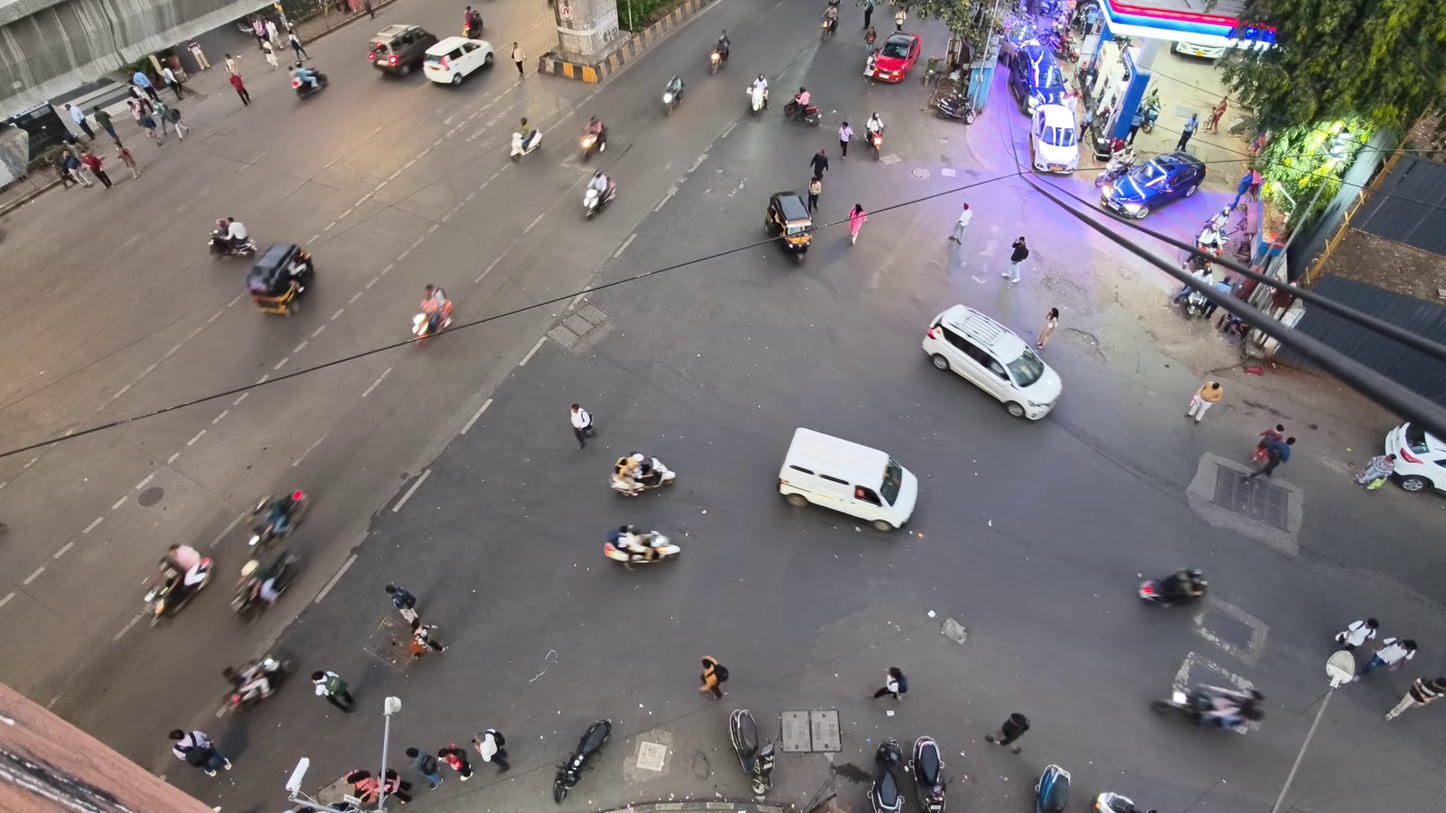walking: (169, 729, 230, 776), (1384, 677, 1445, 720), (1355, 638, 1417, 680), (345, 769, 411, 803), (1244, 437, 1295, 480), (985, 713, 1029, 753), (312, 671, 354, 711), (404, 748, 443, 789), (472, 729, 509, 772), (1185, 381, 1222, 422), (1354, 453, 1396, 489), (409, 619, 447, 657), (1335, 618, 1378, 650), (1001, 236, 1029, 285), (437, 743, 472, 781), (385, 584, 418, 623), (700, 656, 728, 699), (872, 667, 908, 699), (81, 151, 112, 188), (62, 151, 93, 187), (1254, 424, 1284, 461), (569, 403, 593, 449), (92, 105, 120, 143), (64, 103, 93, 139), (1036, 307, 1059, 349), (950, 203, 972, 244), (163, 105, 188, 139), (117, 142, 140, 178), (1176, 113, 1198, 150), (848, 203, 867, 244), (1206, 96, 1227, 132), (133, 70, 158, 100), (138, 111, 161, 143), (162, 65, 182, 99), (230, 73, 249, 105), (188, 41, 209, 69), (1126, 108, 1142, 144), (288, 31, 308, 59), (838, 121, 853, 158), (810, 148, 828, 178), (154, 100, 169, 136), (807, 176, 821, 212), (262, 41, 279, 70), (511, 41, 524, 77), (252, 15, 266, 47), (264, 19, 279, 44), (862, 0, 874, 29), (864, 27, 877, 51), (224, 54, 238, 75), (895, 8, 906, 31), (364, 0, 374, 18)
